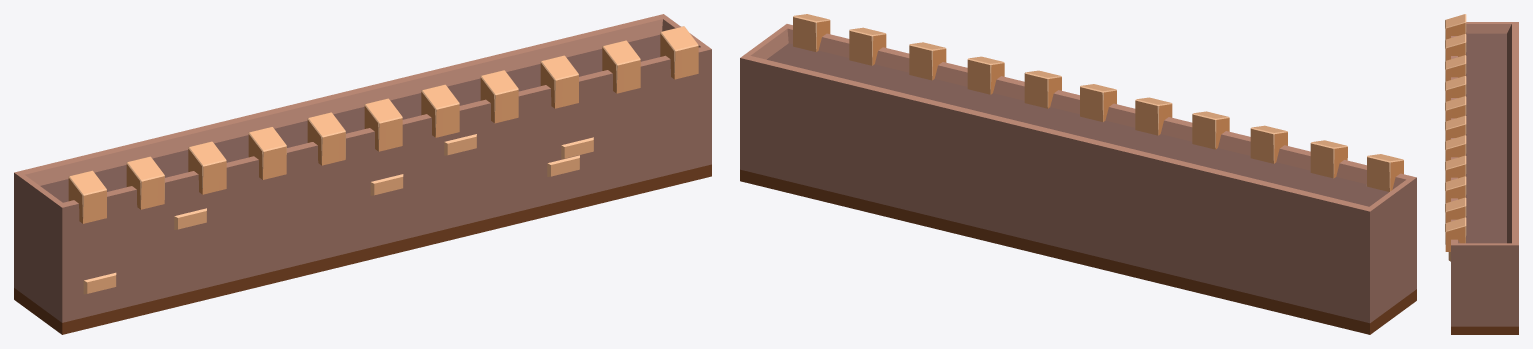
File: Wall_Battle.fbx
3 views of the same model, side by side, from view 1: azimuth 30°, elevation 25°; view 2: azimuth 150°, elevation 25°; view 3: azimuth 270°, elevation 25° (orthographic). The views are drawn at different scales.
Parts seen in each view (by area): view 1: Wall_Battle; view 2: Wall_Battle; view 3: Wall_Battle.
Part boxes in pixels (x1,y1,x2,y2): Wall_Battle: (14, 14, 711, 334); Wall_Battle: (740, 14, 1416, 334); Wall_Battle: (1445, 14, 1518, 334).
Bounding box in the file's own units: 1034 × 223 × 144.
